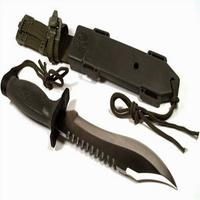knife: (3, 73, 181, 192)
